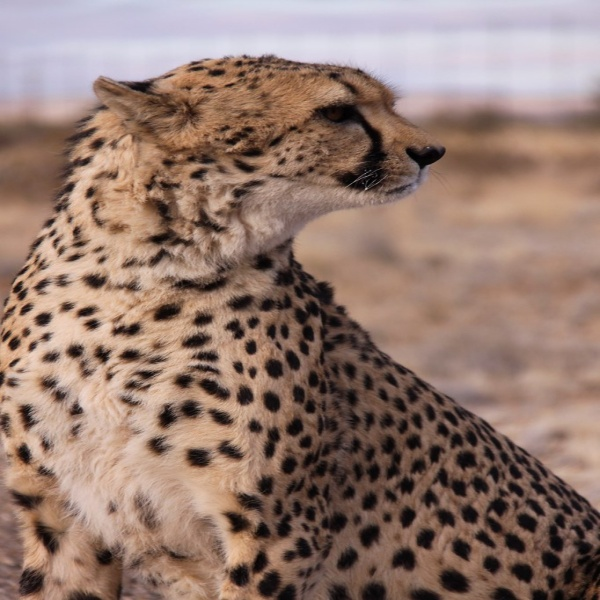Cheetah: (5, 45, 597, 600)
